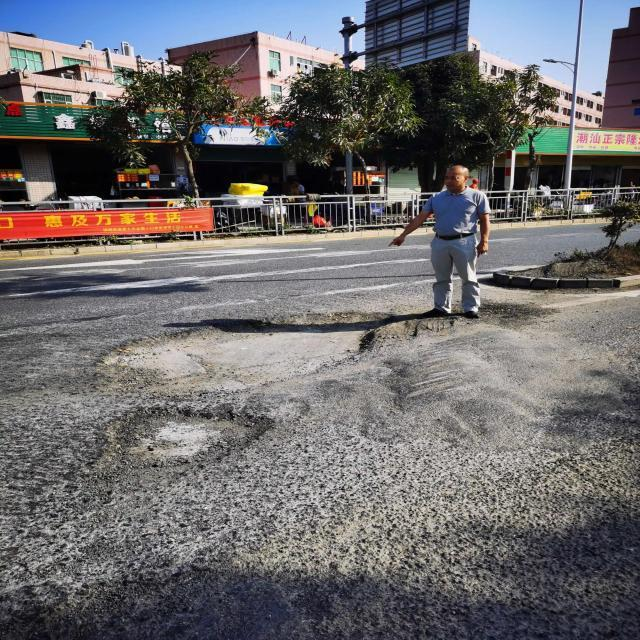Buraco: (88, 310, 411, 399), (83, 404, 279, 476)
